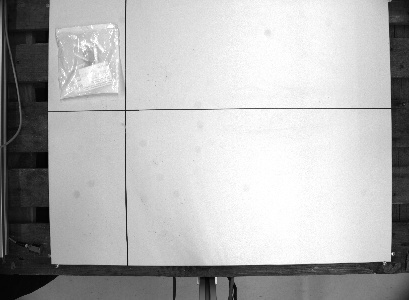t3: (53, 21, 128, 102)
